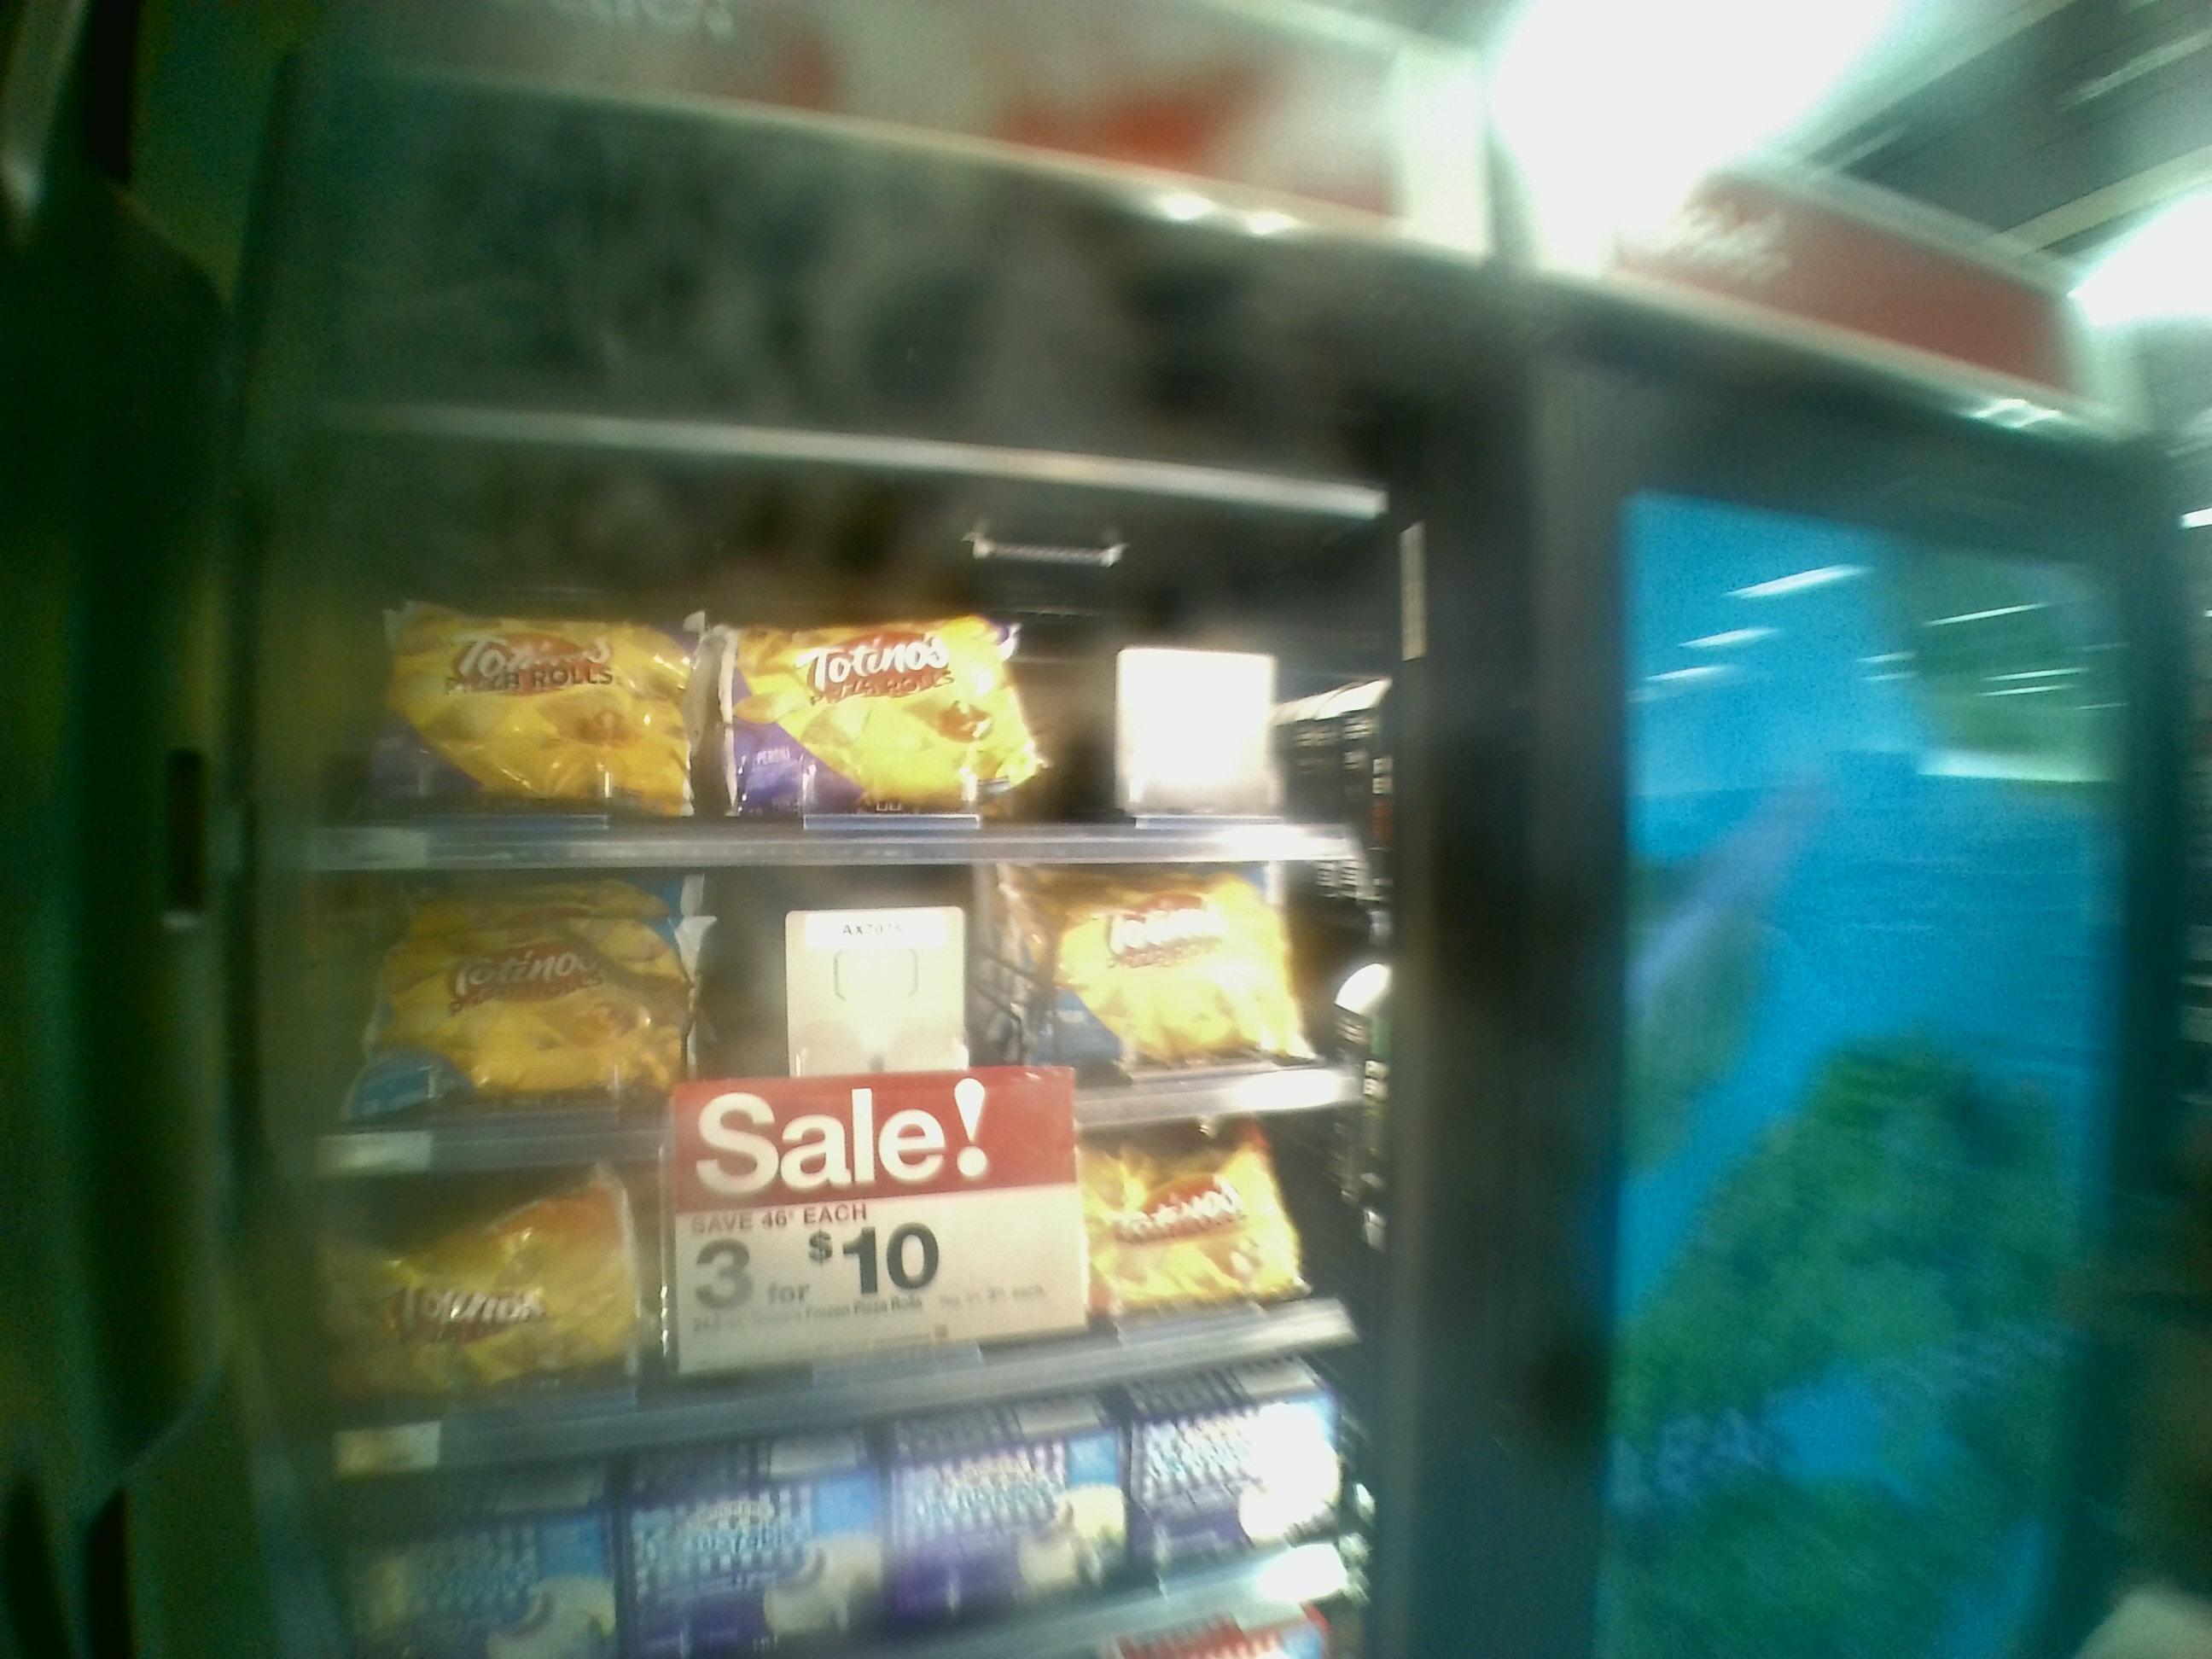shelf: (265, 479, 1388, 840), (270, 829, 1400, 1115), (270, 1122, 1369, 1361)
